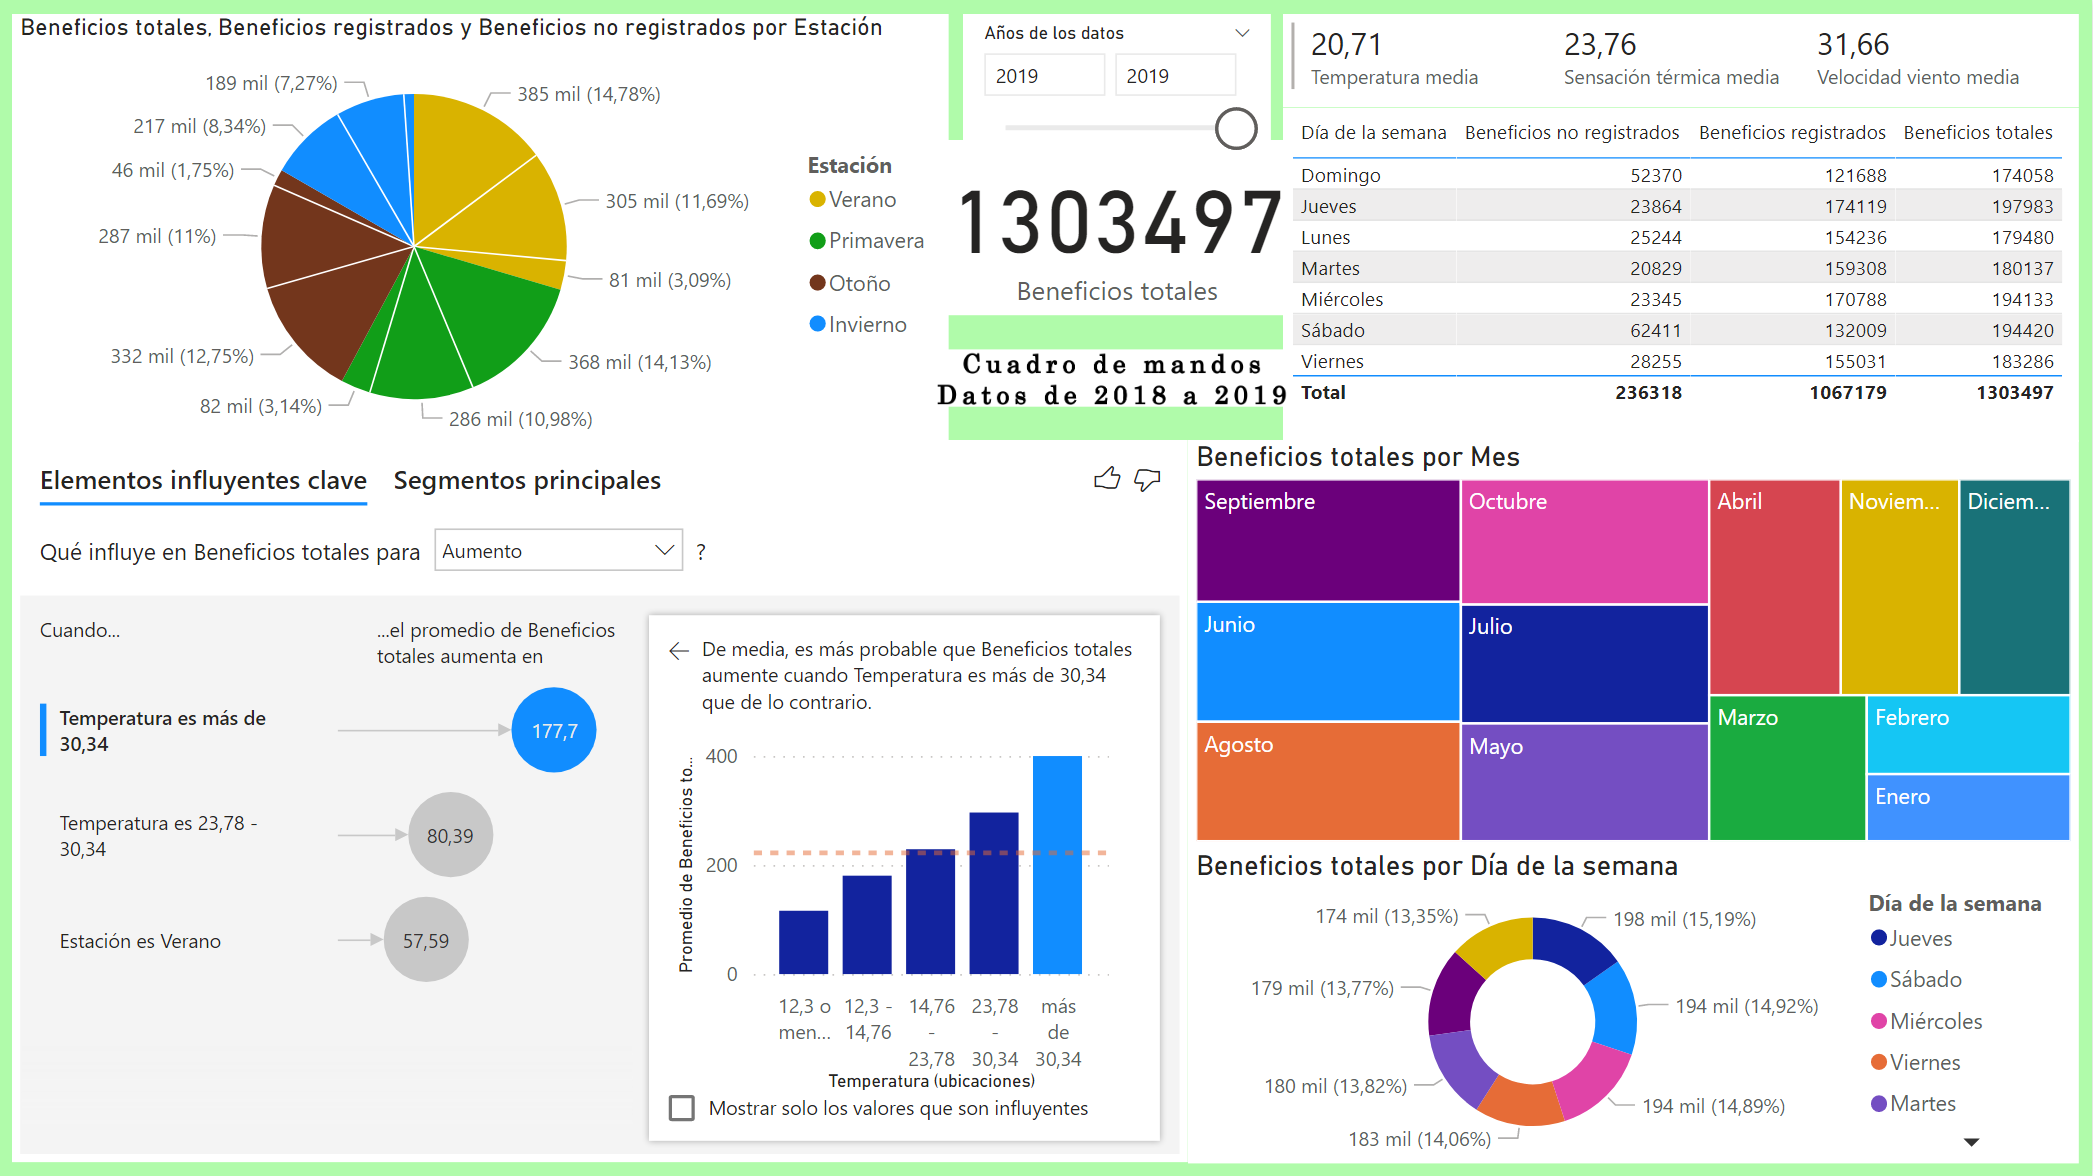

What the dashboard file says about the page in this screenshot:
{"tool":"powerbi","page":{"name":"Página 1","canvas":[1280,720],"ordinal":0},"visuals":[{"type":"pieChart","fields":{"Category":["rentadebicis_texto.Estación"],"Y":["Sum(rentadebicis_texto.Rentas totales)","Sum(rentadebicis_texto.Rentas registrados)","Sum(rentadebicis_texto.Rentas no registrados)"]},"box":[9.8,9.2,571.8,268.1],"z":0},{"type":"card","fields":{"Values":["Sum(rentadebicis_texto.Rentas totales)"]},"box":[575.5,86.1,218.9,107],"z":1000},{"type":"multiRowCard","fields":{"Values":["Avg(rentadebicis_texto.Temperatura)","Avg(rentadebicis_texto.Sensación térmica)","Avg(rentadebicis_texto.Velocidad viento)"]},"box":[785.8,9.2,485.7,57.2],"z":2000},{"type":"tableEx","fields":{"Values":["rentadebicis_texto.Día de la semana","Sum(rentadebicis_texto.Rentas no registrados)","Sum(rentadebicis_texto.Rentas registrados)","Sum(rentadebicis_texto.Rentas totales)"]},"box":[785.8,66.4,485.7,204.1],"z":3000},{"type":"treemap","fields":{"Values":["Sum(rentadebicis_texto.Rentas totales)"],"Group":["rentadebicis_texto.Mes"]},"box":[728,269.3,543.5,249.6],"z":4000},{"type":"keyDriversVisual","fields":{"Target":["rentadebicis_texto.Rentas totales"],"ExplainBy":["Sum(rentadebicis_texto.Temperatura)","rentadebicis_texto.Estación"]},"box":[9.8,269.3,718.2,441.5],"z":5000},{"type":"slicer","fields":{"Values":["rentadebicis_texto.Año"]},"box":[590.5,9.2,188.1,106.9],"z":6000},{"type":"image","box":[567.5,193.1,226.9,77.5],"z":7000},{"type":"donutChart","fields":{"Category":["rentadebicis_texto.Día de la semana"],"Y":["Sum(rentadebicis_texto.Rentas totales)"]},"box":[728,518.9,543.5,191.8],"z":8000}]}

Visuals, with their boxes in screenshot pixels (x1, y1, x2, y2), scaled from the page's 1280x720 canvas onto the 2093x1176 screenshot:
pieChart - rentadebicis_texto.Estación x Sum(rentadebicis_texto.Rentas totales): x1=16 y1=15 x2=951 y2=453
card - Sum(rentadebicis_texto.Rentas totales): x1=941 y1=141 x2=1299 y2=315
multiRowCard - Avg(rentadebicis_texto.Temperatura) x Avg(rentadebicis_texto.Sensación térmica): x1=1285 y1=15 x2=2079 y2=108
tableEx - rentadebicis_texto.Día de la semana x Sum(rentadebicis_texto.Rentas no registrados): x1=1285 y1=108 x2=2079 y2=442
treemap - Sum(rentadebicis_texto.Rentas totales) x rentadebicis_texto.Mes: x1=1190 y1=440 x2=2079 y2=848
keyDriversVisual - rentadebicis_texto.Rentas totales x Sum(rentadebicis_texto.Temperatura): x1=16 y1=440 x2=1190 y2=1161
slicer - rentadebicis_texto.Año: x1=966 y1=15 x2=1273 y2=190
image: x1=928 y1=315 x2=1299 y2=442
donutChart - rentadebicis_texto.Día de la semana x Sum(rentadebicis_texto.Rentas totales): x1=1190 y1=848 x2=2079 y2=1161
